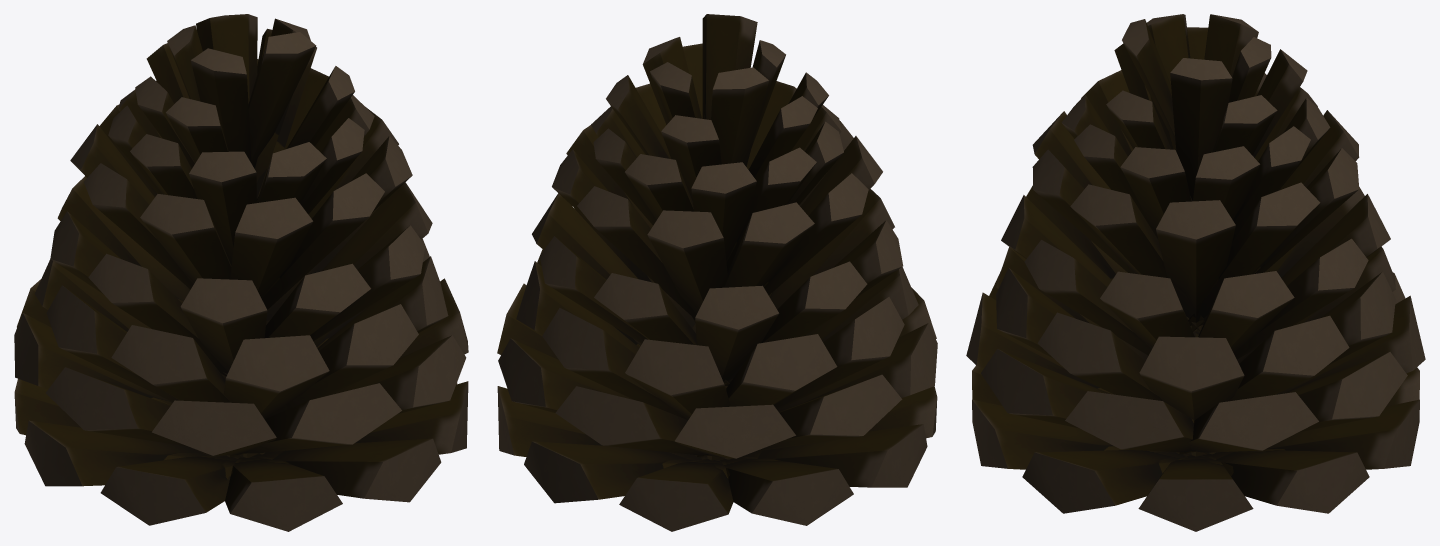
File: kozalak.fbx
3 renders of one model, left to right at view 1: azimuth 30°, elevation 25°; view 2: azimuth 150°, elevation 25°; view 3: azimuth 270°, elevation 25°, orthographic. The views are drawn at different scales.
Visible parts, largest first — view 1: PineCone_mesh.001; view 2: PineCone_mesh.001; view 3: PineCone_mesh.001.
Boxes of the visible parts, x1,y1,x2,y2 form: PineCone_mesh.001: (14,14,468,531); PineCone_mesh.001: (497,14,937,531); PineCone_mesh.001: (966,14,1425,531).
Bounding box in the file's own units: 191 × 212 × 193.
1 material, 1 textured.
